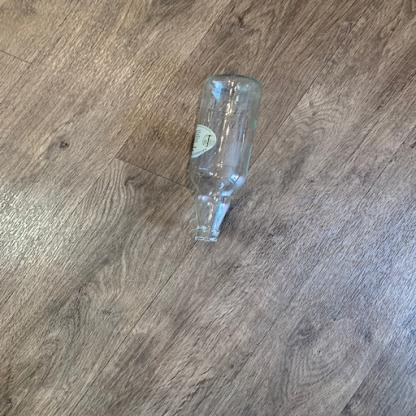trash: (192, 74, 262, 243)
